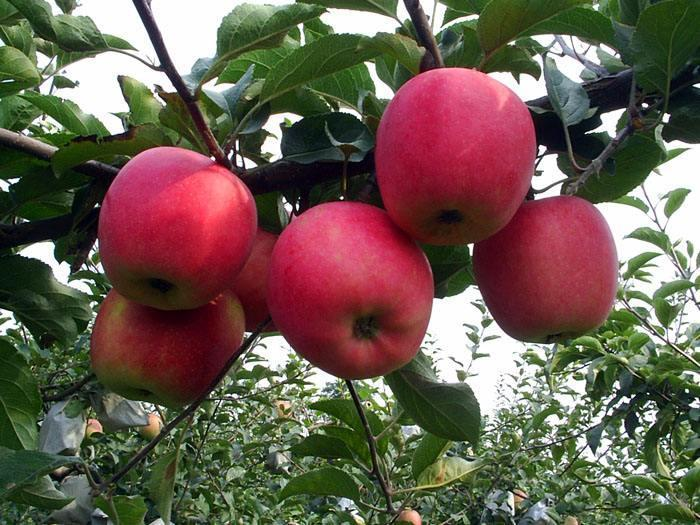apple: (267, 194, 434, 380), (373, 65, 536, 245), (91, 148, 257, 311), (469, 195, 619, 343), (86, 284, 246, 409), (391, 508, 421, 524)
